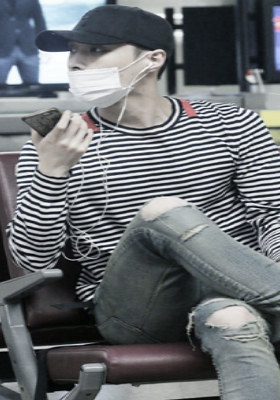mask_weared_incorrect: (66, 43, 149, 108)
